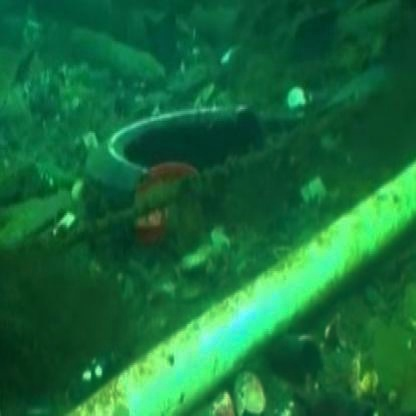rod: (69, 204, 416, 402)
tire: (96, 85, 302, 251)
